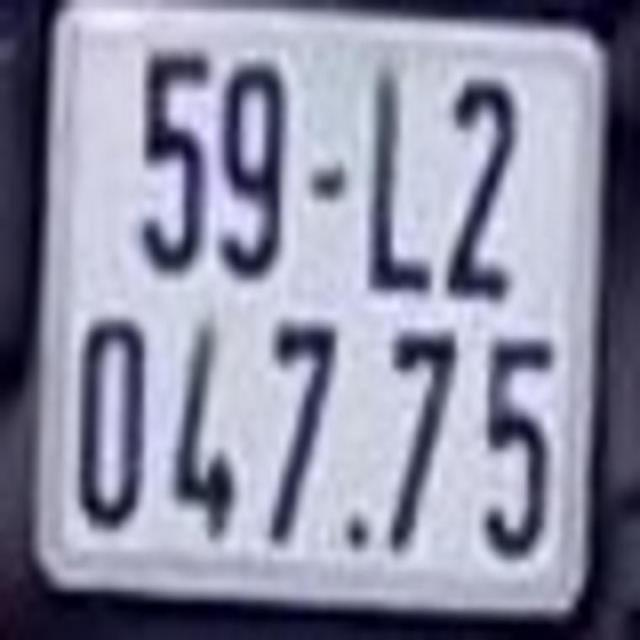0: (78, 316, 149, 532)
2: (451, 79, 516, 306)
4: (173, 311, 234, 539)
5: (488, 330, 550, 560), (144, 60, 211, 268)
7: (389, 325, 455, 562), (274, 316, 334, 538)
9: (222, 58, 280, 272)
L: (370, 64, 433, 294)
